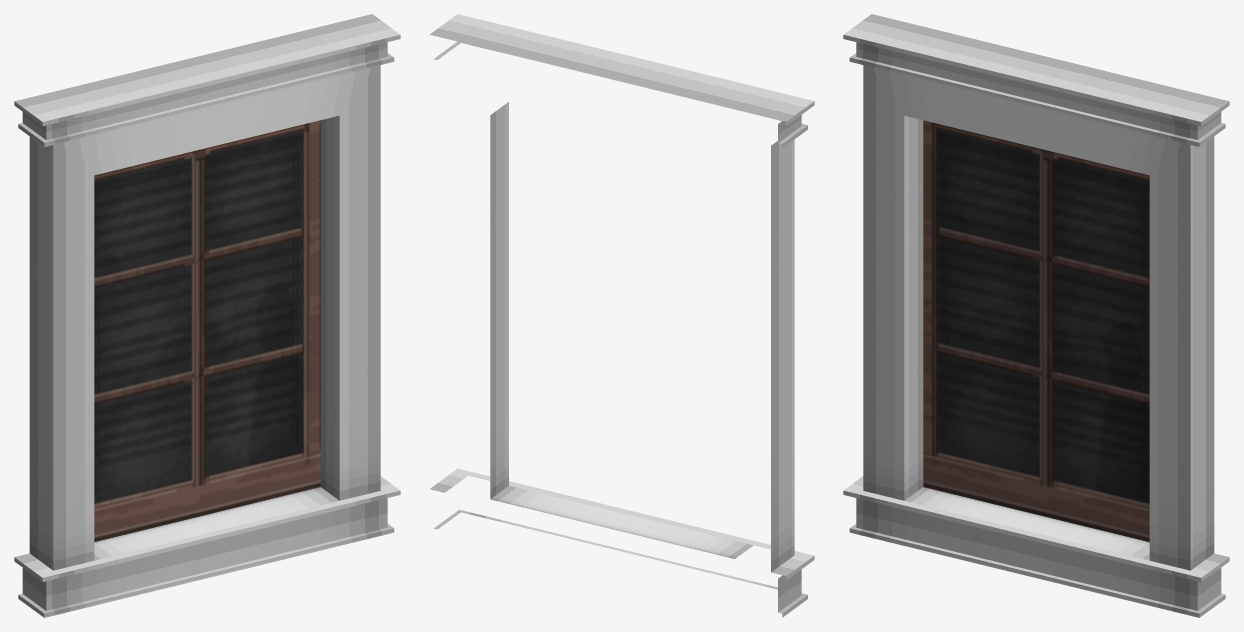
File: STFwindow.glb
The picture shows the model from 3 angles, left to right: view 1: azimuth 30°, elevation 25°; view 2: azimuth 150°, elevation 25°; view 3: azimuth 330°, elevation 25°; orthographic projection.
Visible parts, largest first — view 1: STFwindow; view 2: STFwindow; view 3: STFwindow.
Boxes of the visible parts, bbox=[...] form: STFwindow: bbox=[14, 14, 400, 617]; STFwindow: bbox=[430, 14, 814, 617]; STFwindow: bbox=[843, 14, 1229, 617].
Bounding box in the file's own units: 0.8751 × 1.17 × 0.12.
2 materials, 2 textured.
